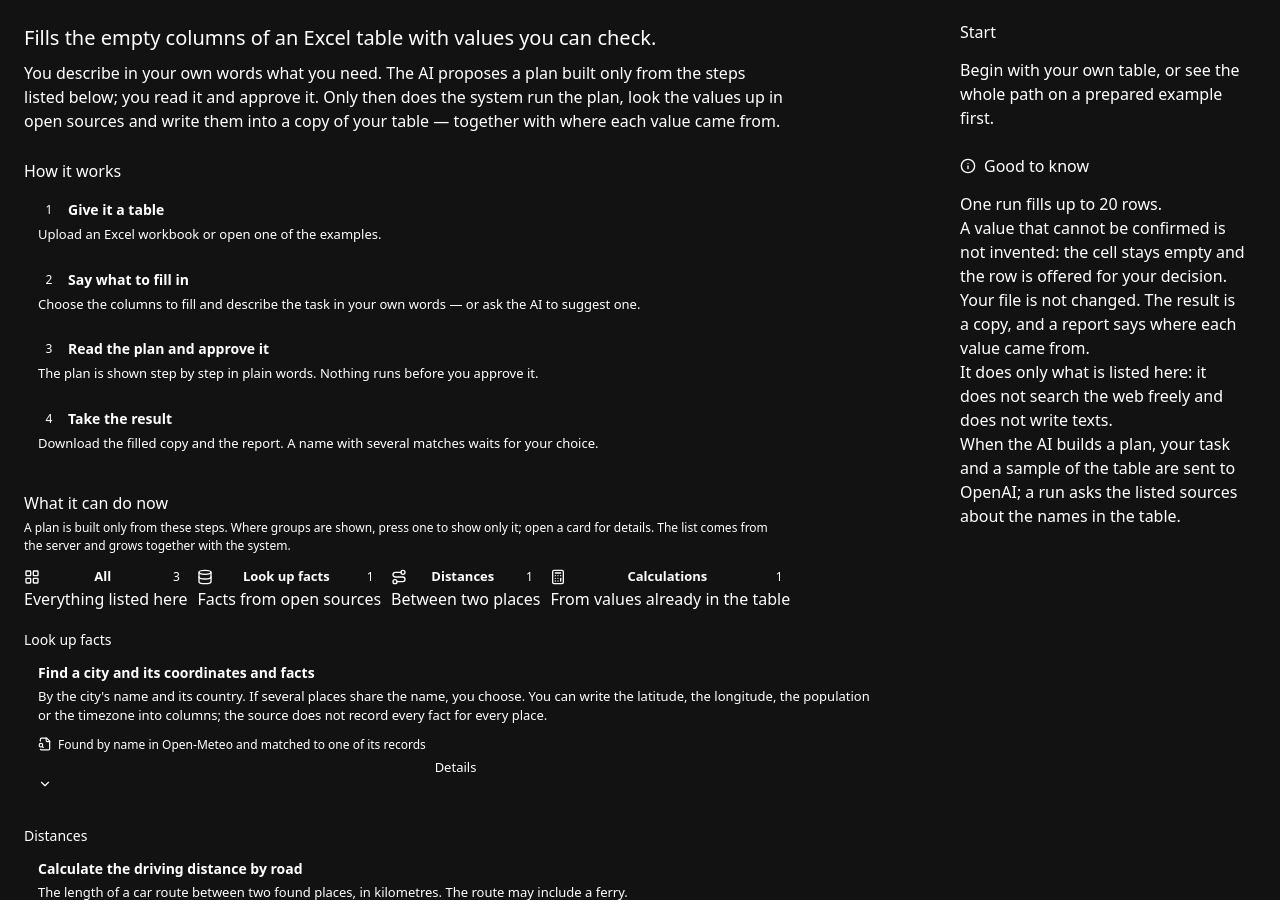
Test case: opens and closes a card in place, several at a time
Click the button "Details".
click(456, 774)  # box [38, 758, 873, 791]
(page scrolled)
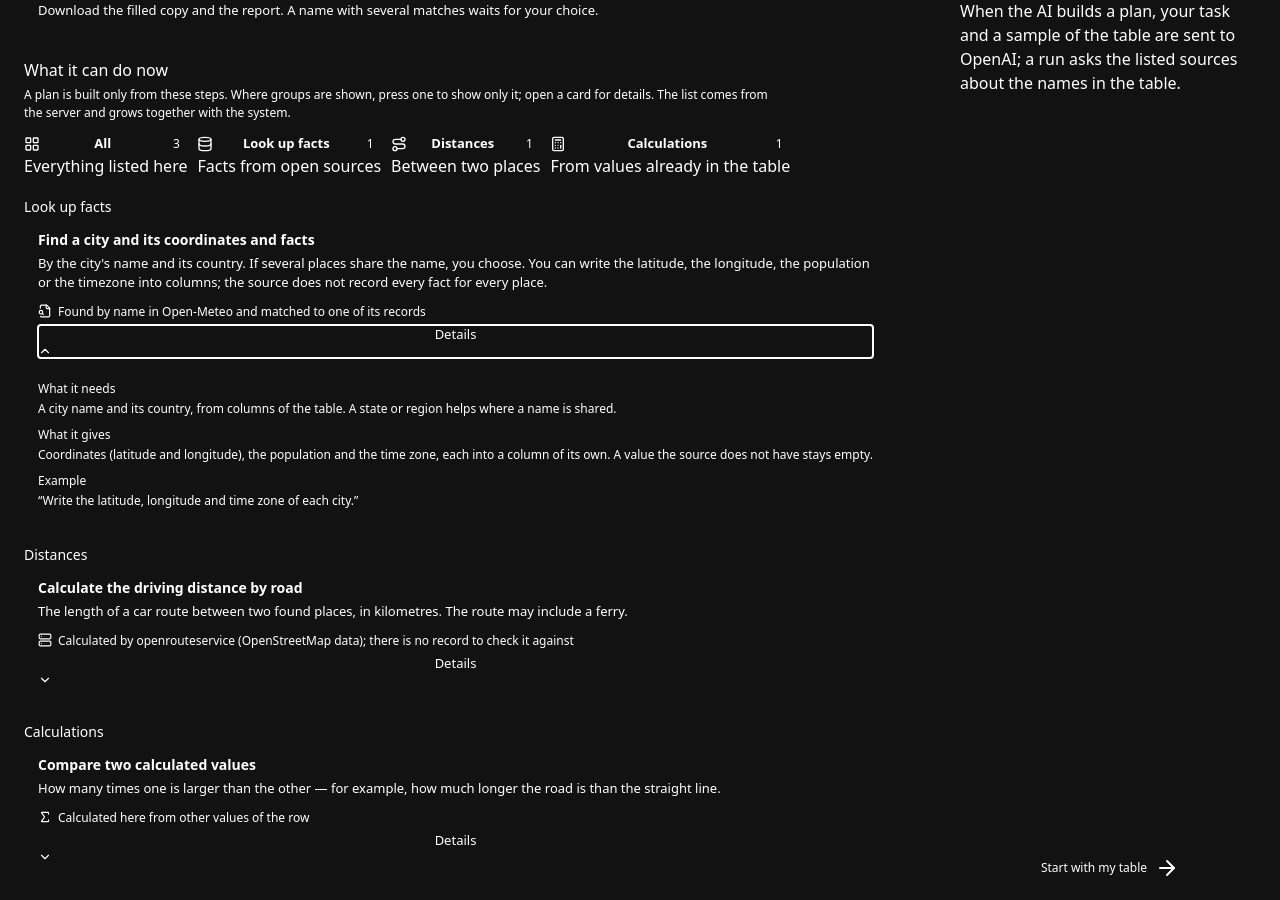
Click the button "Details" below "Compare two calculated values".
click(456, 847)  # box [38, 830, 873, 864]
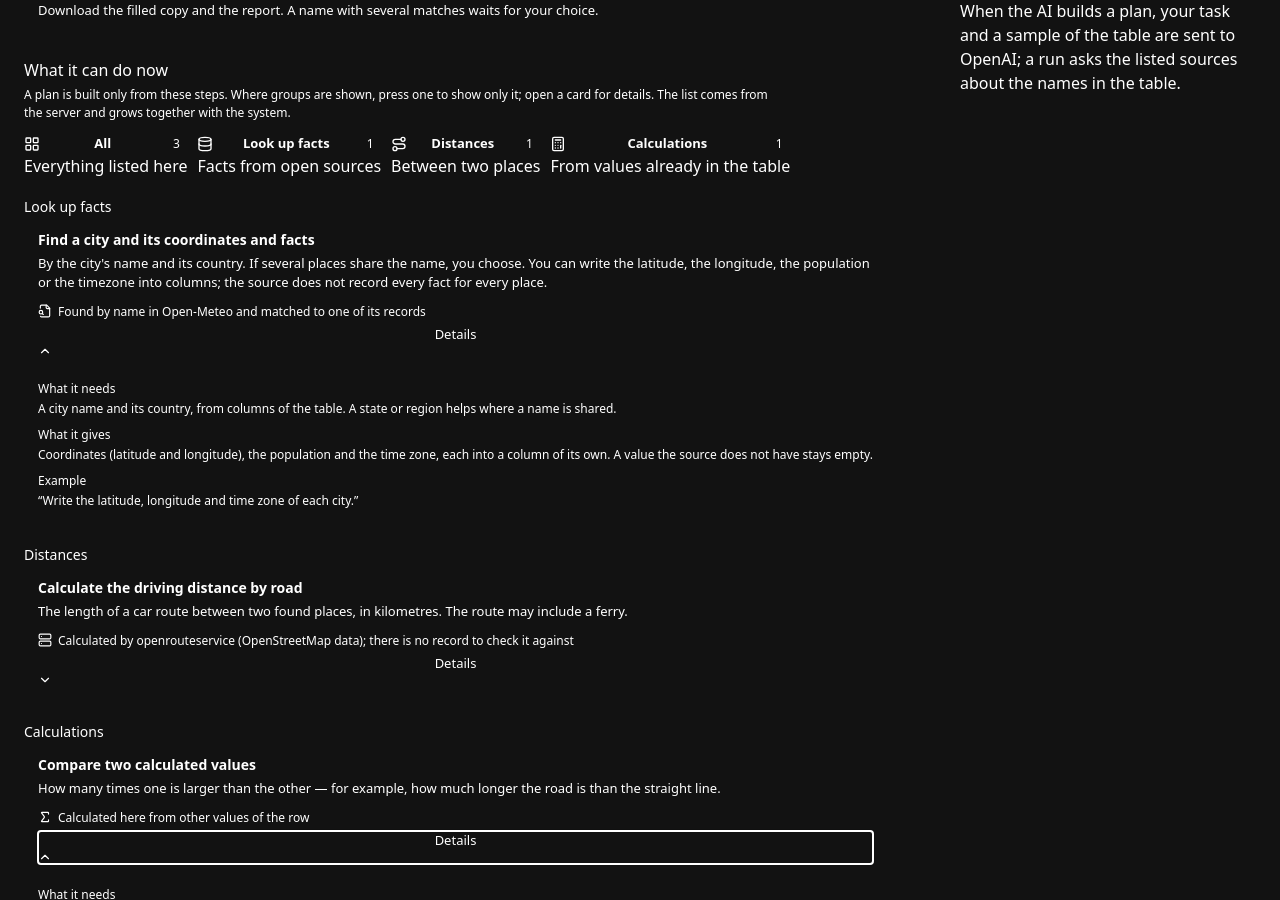
Result: the button "Details" below "Compare two calculated values" is expanded at [38, 830, 873, 864]
Click the 1st button "Details".
click(456, 341)  # box [38, 324, 873, 358]
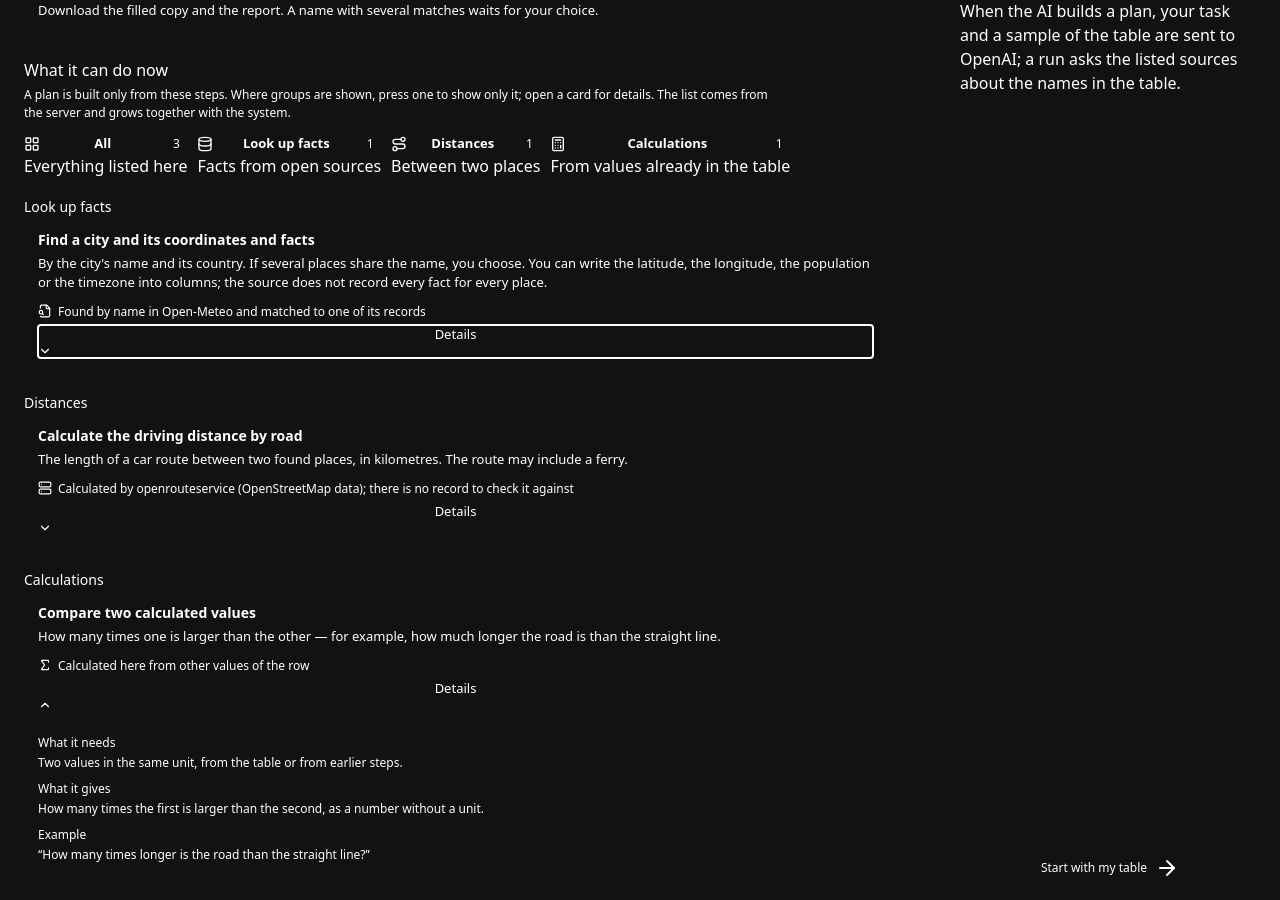
Result: the button "Details" below "Compare two calculated values" is expanded at [38, 678, 873, 712]
Result: the 1st button "Details" is collapsed at [38, 324, 873, 358]
